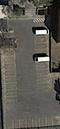parkingspot: (33, 22, 51, 90), (1, 49, 18, 104), (13, 116, 60, 129)
